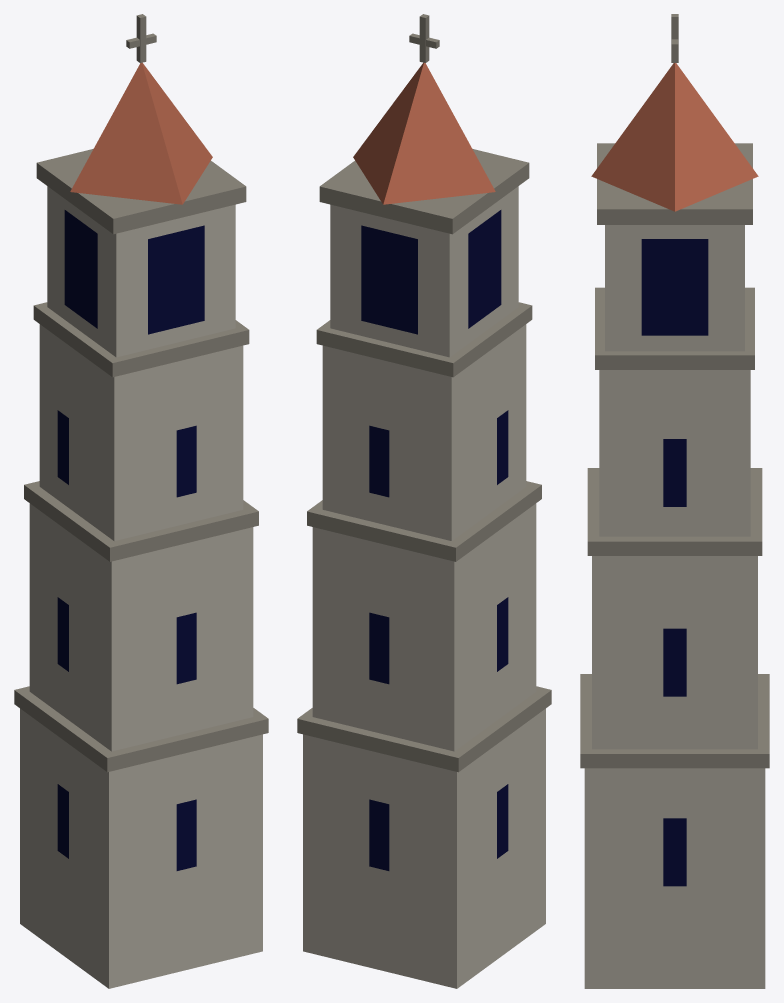
Rendered from env_bell_tower.obj.
3 views of the same model, side by side, from view 1: azimuth 30°, elevation 25°; view 2: azimuth 150°, elevation 25°; view 3: azimuth 270°, elevation 25° (orthographic).
Visible parts, largest first — view 1: BellTower; view 2: BellTower; view 3: BellTower.
Part boxes in pixels (bbox=[...]): BellTower: bbox=[14, 14, 268, 988]; BellTower: bbox=[297, 14, 551, 988]; BellTower: bbox=[580, 14, 769, 988].
Bounding box in the file's own units: 2.62 × 14.3 × 2.62.
